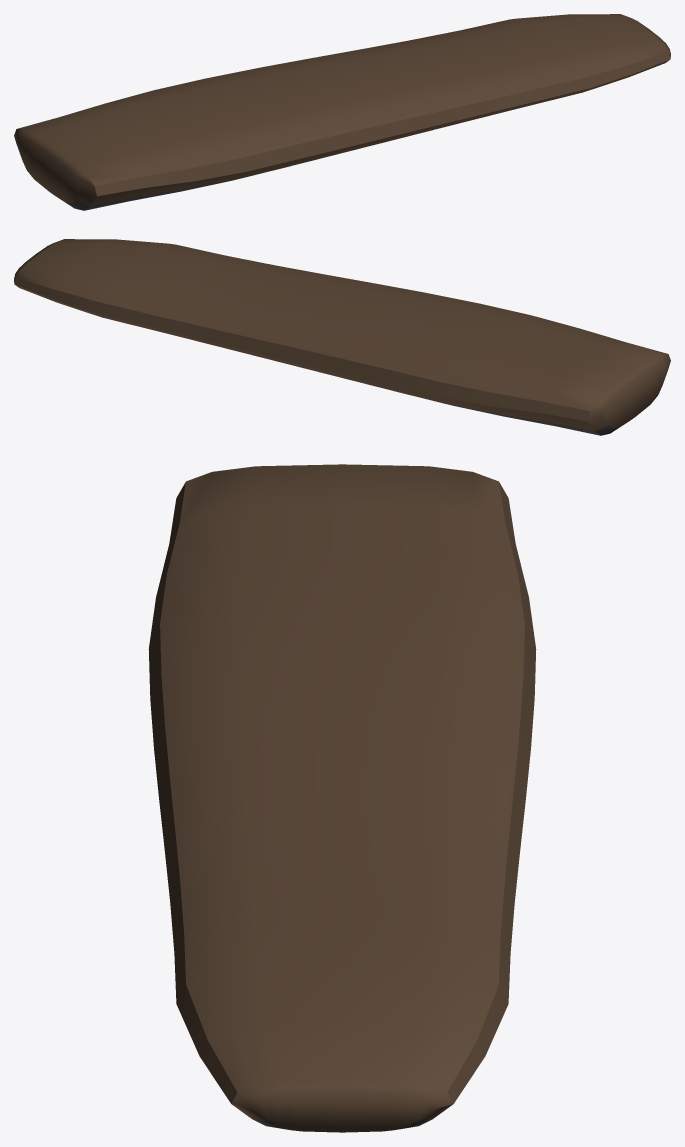
Rendered from solo_lod1.glb.
3 views of the same model, one above another, from view 1: azimuth 30°, elevation 25°; view 2: azimuth 150°, elevation 25°; view 3: azimuth 270°, elevation 25° (orthographic). The views are drawn at different scales.
Parts seen in each view (by area): view 1: solo_lod1; view 2: solo_lod1; view 3: solo_lod1.
Part boxes in pixels (box(x1,y1,x2,y2)): solo_lod1: box(14, 14, 670, 210); solo_lod1: box(14, 239, 670, 435); solo_lod1: box(148, 464, 536, 1132).
Bounding box in the file's own units: 1 × 0.08 × 0.2799.
